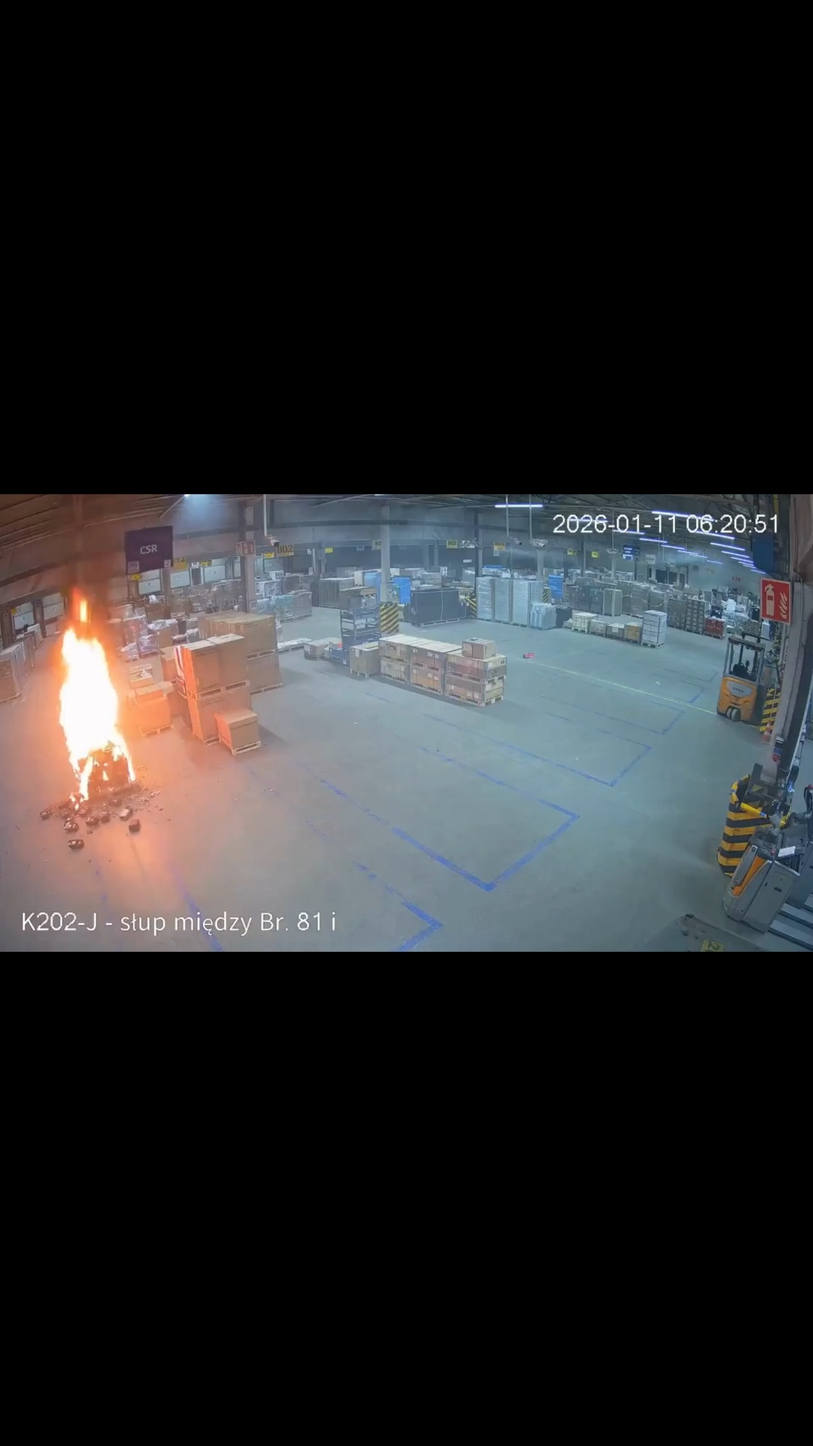fire: (57, 588, 137, 813)
smoke: (47, 498, 147, 633)
